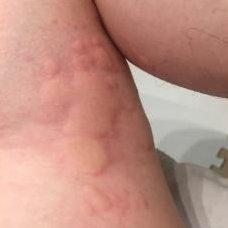Mosquito: (35, 44, 158, 228)
